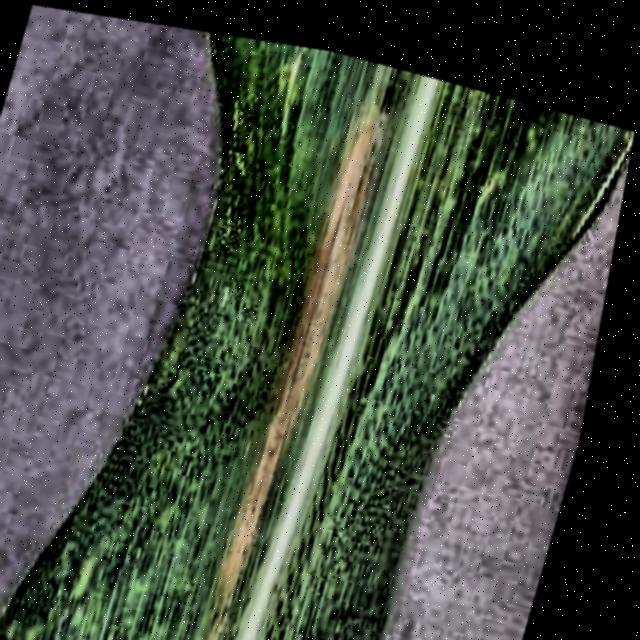blight: (33, 23, 579, 640)
